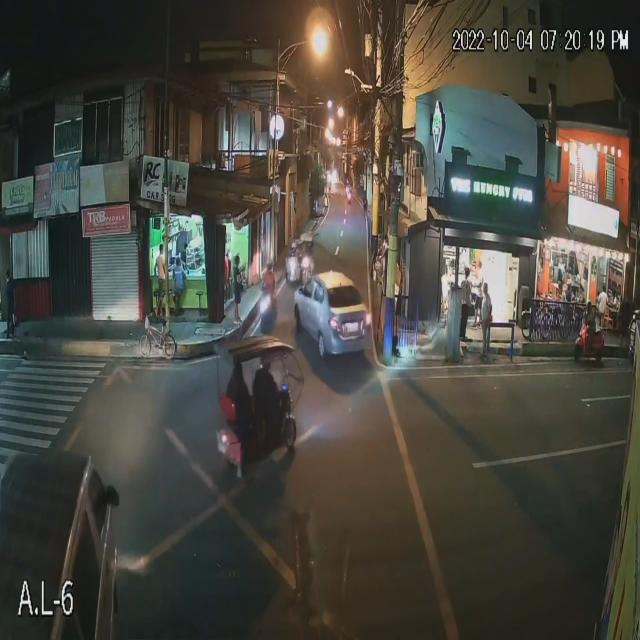Full-Faced: (264, 256, 272, 271)
